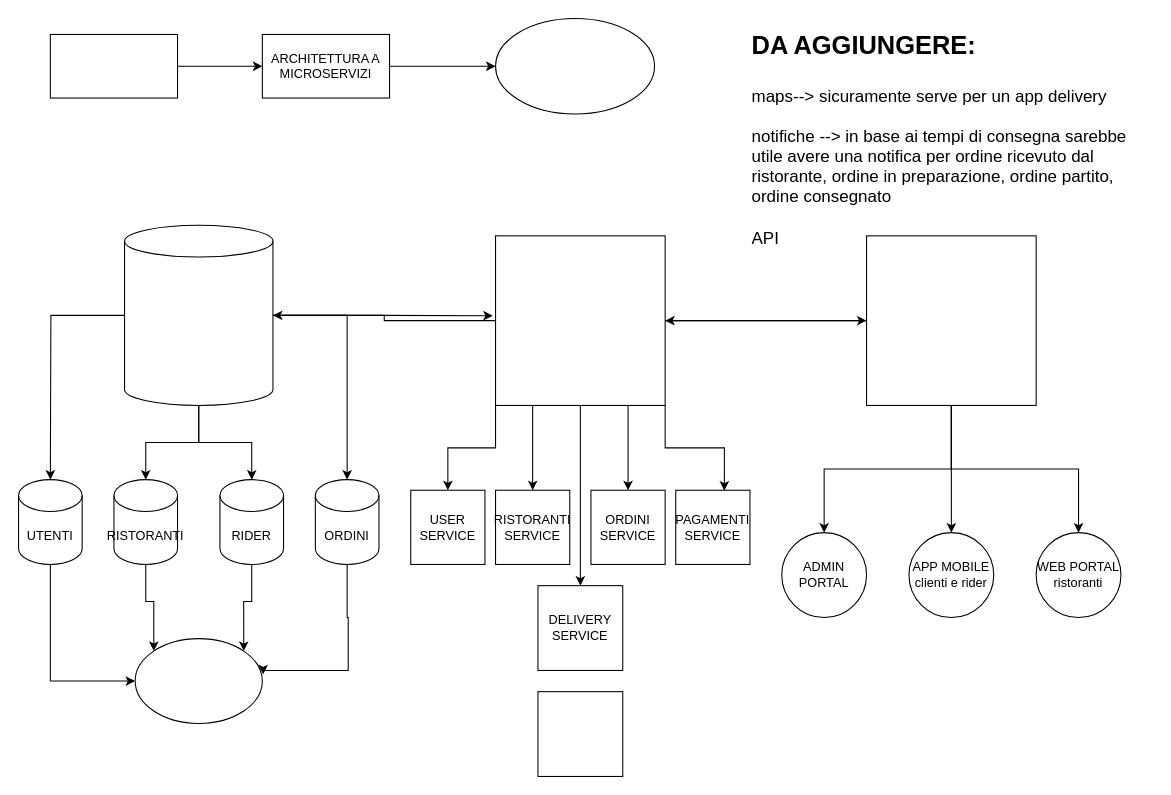
This 1171x795 diagram has some shape labels left out. The centre of each missing label's shape, as x and y in pixels:
APPLICAZIONE DI DELIVERY: point 113,65
BE: point 579,320
DB: point 198,314
FE: point 950,320
NOTIFICHE?: point 580,733
probabilmente tutti db noSql così da poter mettere info diverse: point 198,680
SCALABILITA' e MANUTENZIONE: point 574,65
